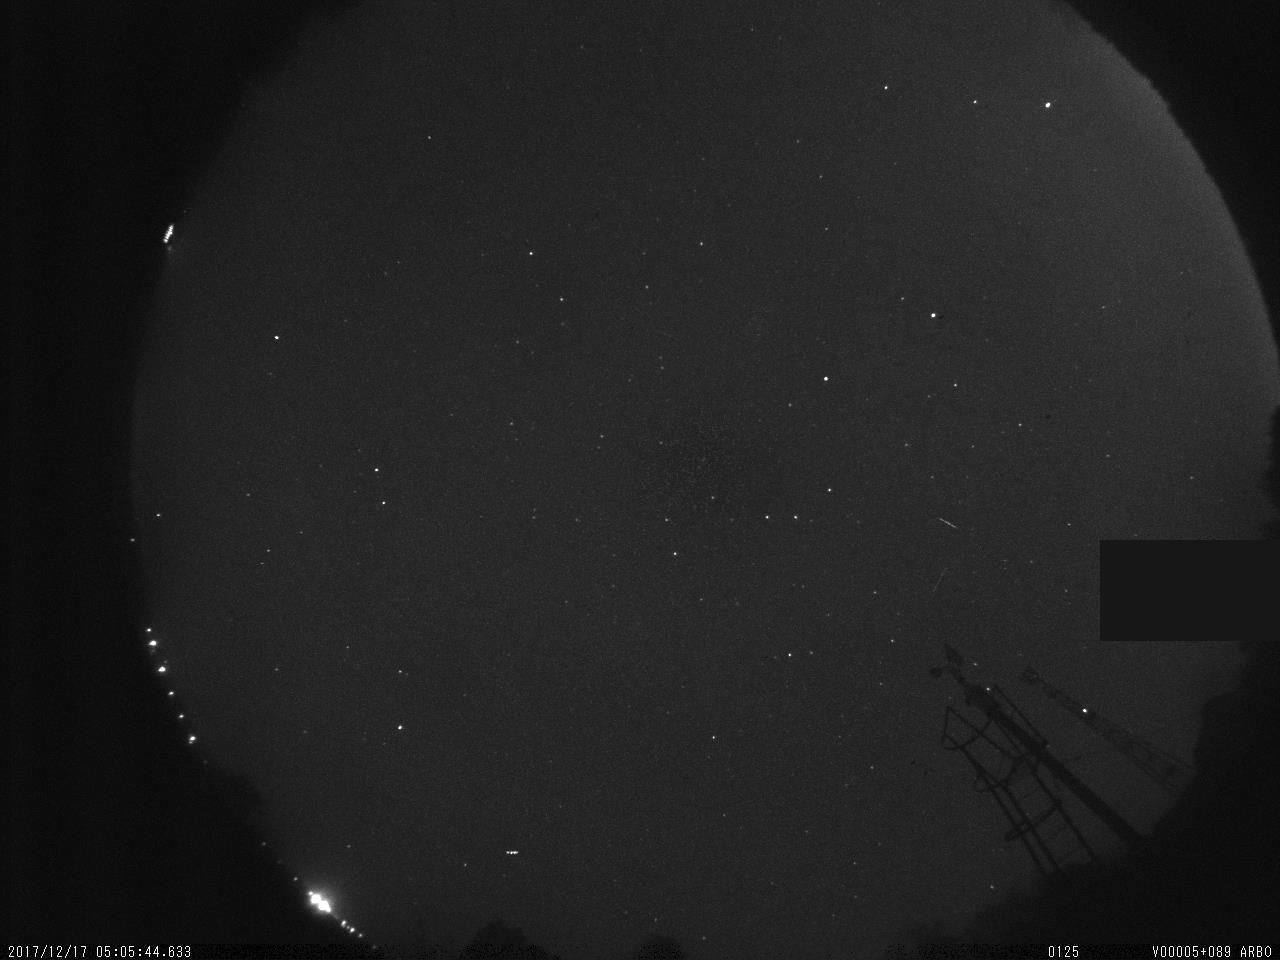meteor: (925, 507, 970, 537)
